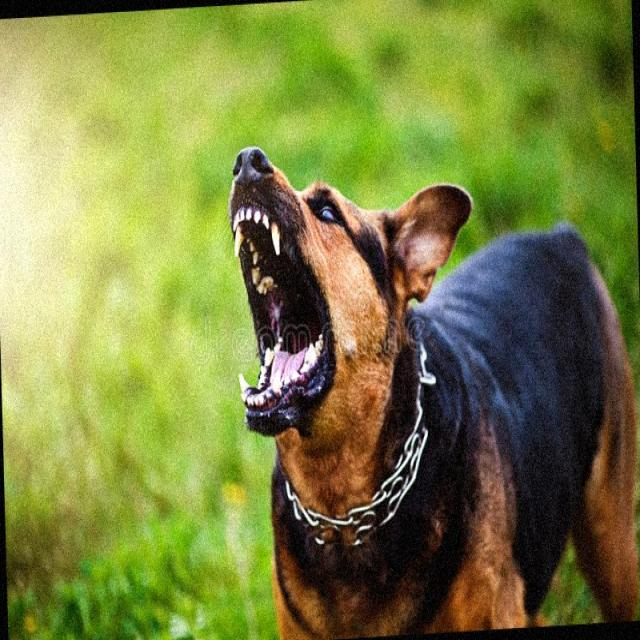angry: (194, 64, 521, 640)
